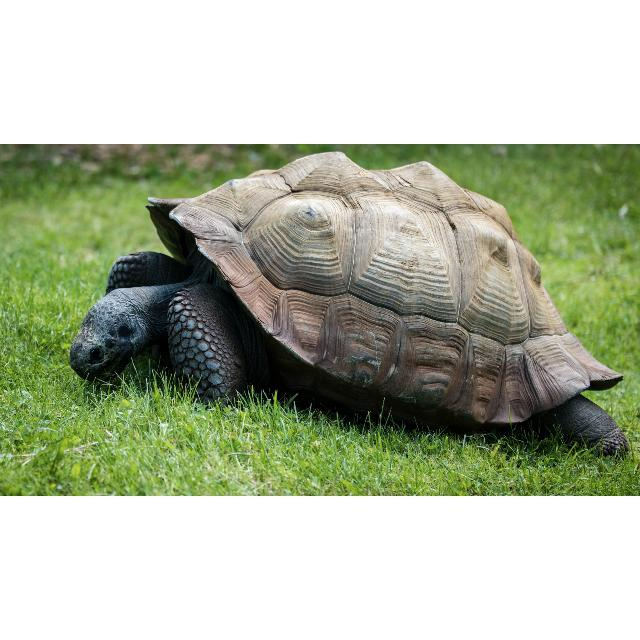turtle: (70, 150, 631, 462)
